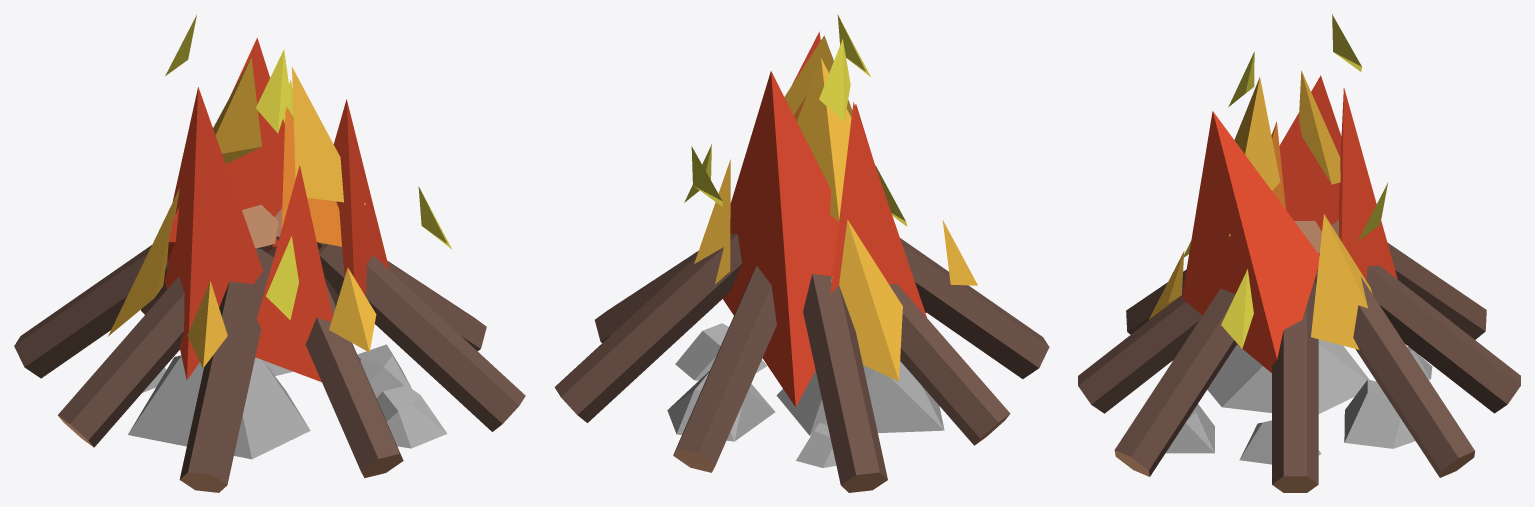
Rendered from BonFire_01.fbx.
3 views of the same model, side by side, from view 1: azimuth 30°, elevation 25°; view 2: azimuth 150°, elevation 25°; view 3: azimuth 270°, elevation 25° (orthographic). The views are drawn at different scales.
Parts seen in each view (by area): view 1: BonFire_01; view 2: BonFire_01; view 3: BonFire_01.
Boxes of the visible parts, x1=… form: BonFire_01: x1=14, y1=15, x2=525, y2=492; BonFire_01: x1=554, y1=14, x2=1049, y2=492; BonFire_01: x1=1078, y1=14, x2=1520, y2=492.
Size of the model in its own units: 241 by 217 by 237.
